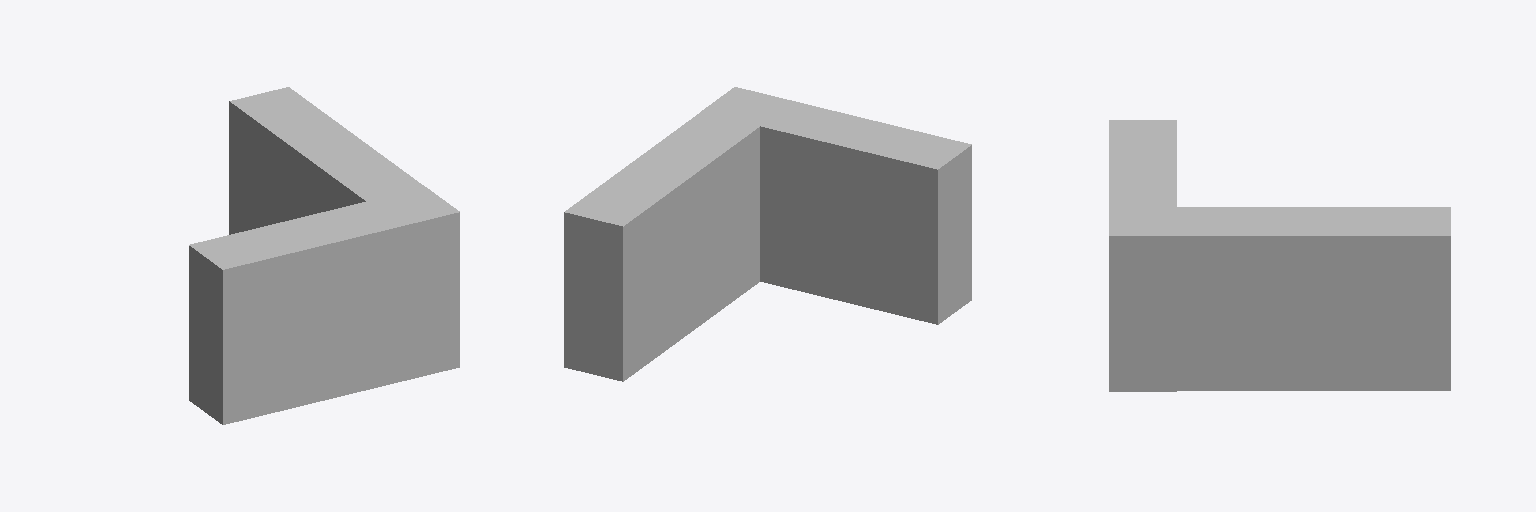
File: barbase_uv.obj
The picture shows the model from 3 angles: view 1: azimuth 30°, elevation 25°; view 2: azimuth 150°, elevation 25°; view 3: azimuth 270°, elevation 25°; orthographic projection.
Parts seen in each view (by area): view 1: BarBase3 Bar MainBuilding; view 2: BarBase3 Bar MainBuilding; view 3: BarBase3 Bar MainBuilding.
Boxes of the visible parts, <box> form: BarBase3 Bar MainBuilding: <box>189,87,459,424</box>; BarBase3 Bar MainBuilding: <box>564,87,971,381</box>; BarBase3 Bar MainBuilding: <box>1109,120,1450,391</box>.
Bounding box in the file's own units: 4 × 2.5 × 5.